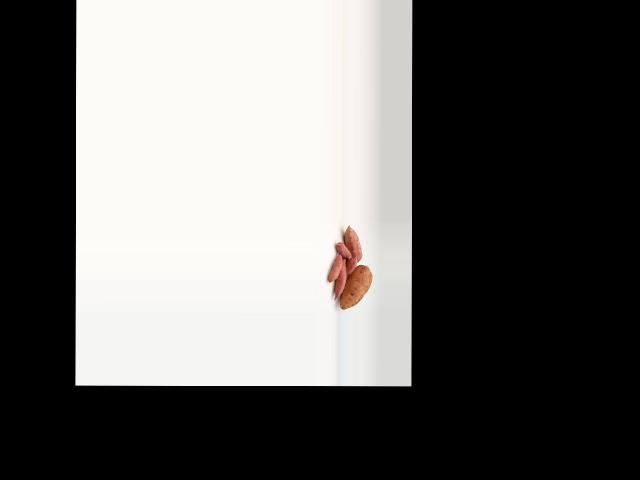sweet_potato: (344, 224, 362, 261)
